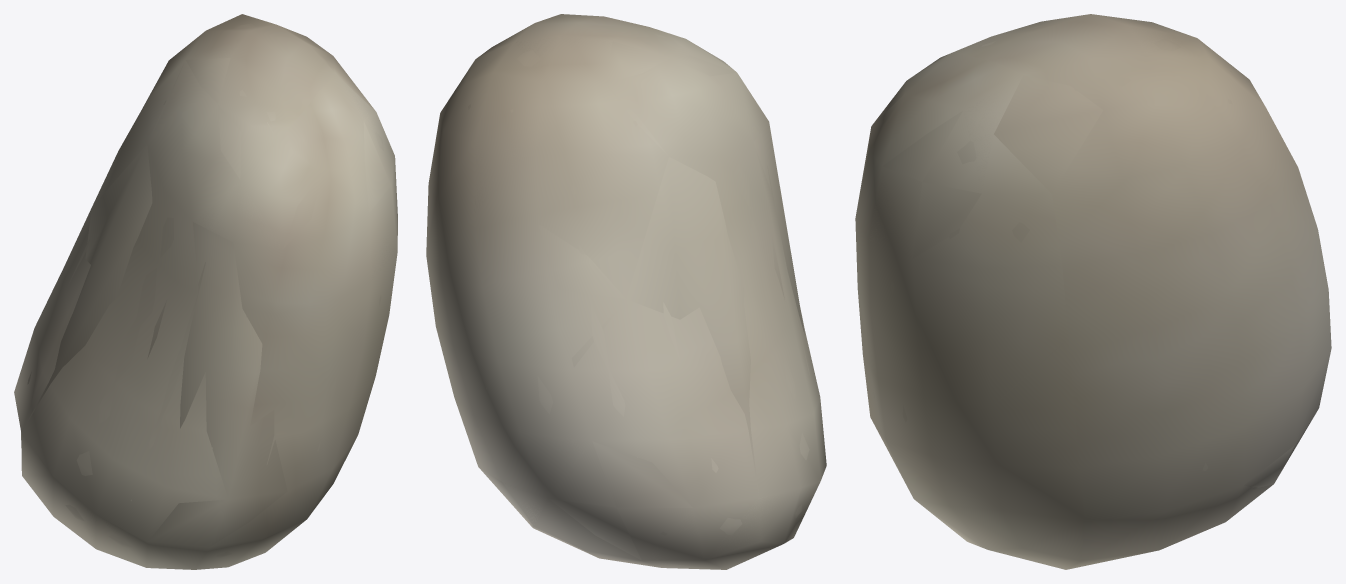
File: L carpale primum.fbx
3 renders of one model, left to right at view 1: azimuth 30°, elevation 25°; view 2: azimuth 150°, elevation 25°; view 3: azimuth 270°, elevation 25°, orthographic. The views are drawn at different scales.
Visible parts, largest first — view 1: L carpale primum, L carpale primum low, L carpale primum high; view 2: L carpale primum, L carpale primum low, L carpale primum high; view 3: L carpale primum, L carpale primum low, L carpale primum high.
Part boxes in pixels (x1,y1,x2,y2): L carpale primum: (14, 14, 397, 569); L carpale primum low: (21, 25, 397, 569); L carpale primum high: (21, 23, 383, 558); L carpale primum: (426, 14, 826, 569); L carpale primum low: (474, 36, 818, 569); L carpale primum high: (468, 34, 810, 541); L carpale primum: (855, 14, 1331, 569); L carpale primum low: (869, 15, 1305, 548); L carpale primum high: (866, 26, 1316, 489).
Size of the model in its own units: 0.3019 by 0.4371 by 0.3328.
1 material, 1 textured.
